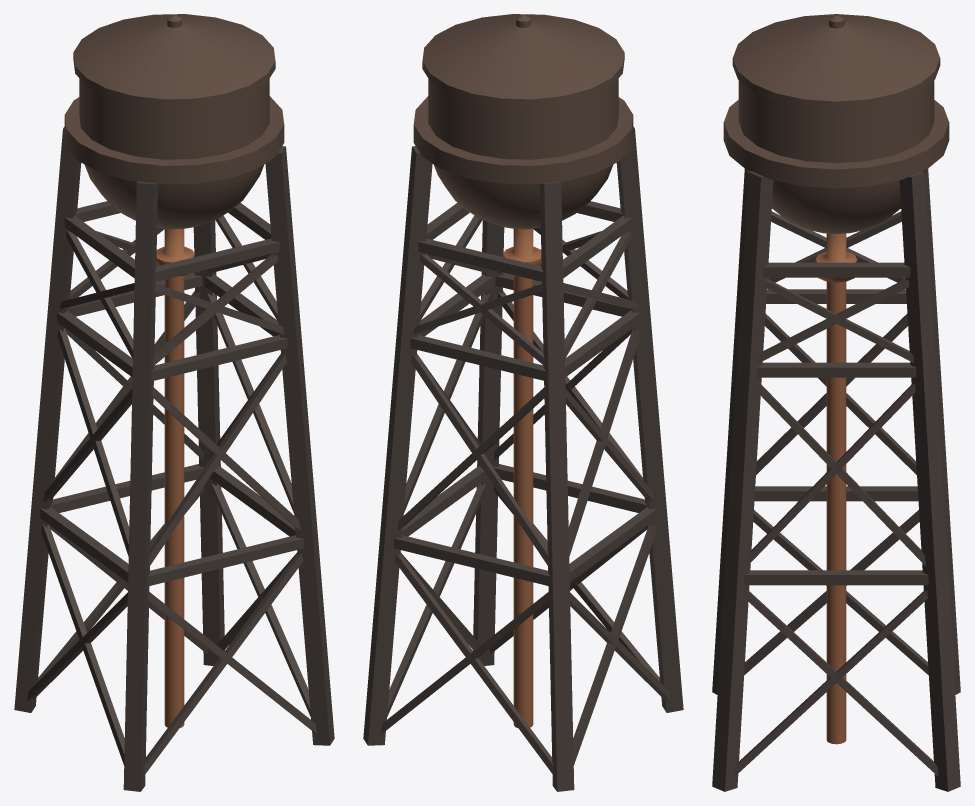
Rendered from camp-north-end-water-tower.glb.
3 views of the same model, side by side, from view 1: azimuth 30°, elevation 25°; view 2: azimuth 150°, elevation 25°; view 3: azimuth 270°, elevation 25° (orthographic). The views are drawn at different scales.
Parts seen in each view (by area): view 1: Camp North End water tower; view 2: Camp North End water tower; view 3: Camp North End water tower.
Part boxes in pixels (x1,y1,x2,y2): Camp North End water tower: [14, 14, 334, 791]; Camp North End water tower: [363, 14, 683, 791]; Camp North End water tower: [712, 14, 960, 791].
Bounding box in the file's own units: 12.47 × 40.13 × 12.47.
